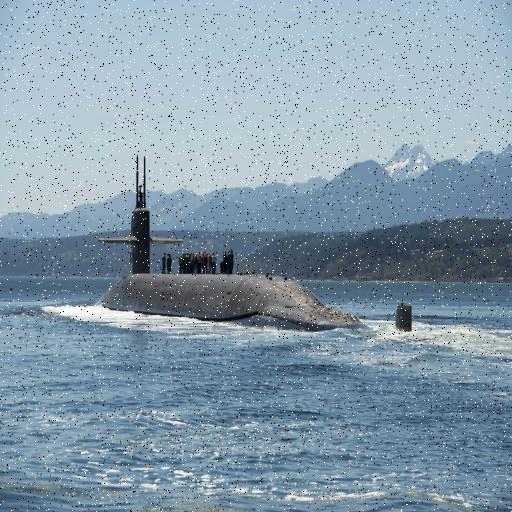submarine: (97, 151, 421, 344)
